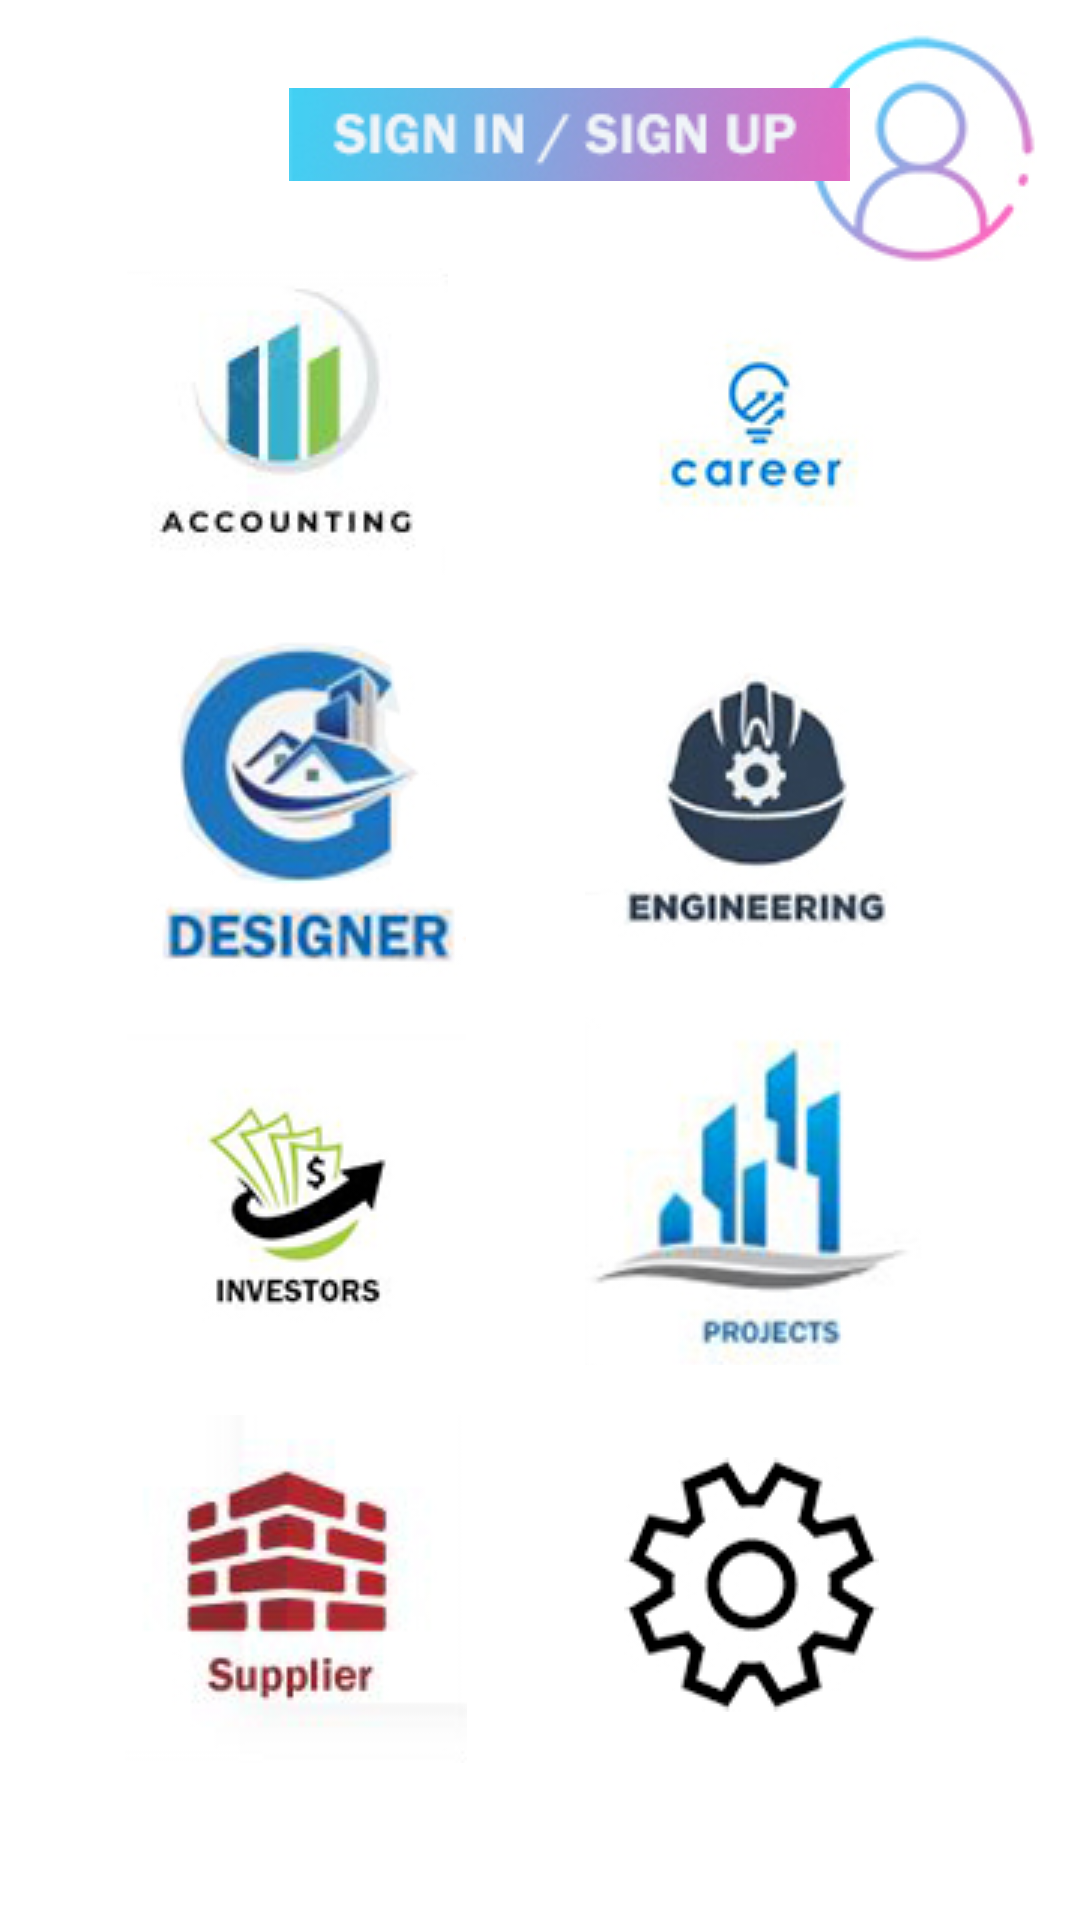

Icon bounding boxes for this 1080w x 1920h phone screenshot, format {"x1": x1, "y1": y1, "x2": x2, "y2": y2}:
profile: {"x1": 794, "y1": 36, "x2": 1035, "y2": 262}
setting: {"x1": 626, "y1": 1459, "x2": 879, "y2": 1710}
